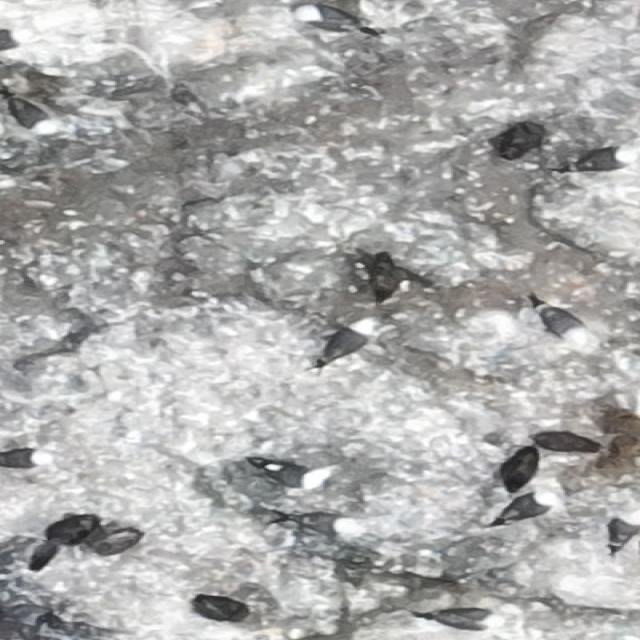umineko: (535, 298, 603, 351), (322, 319, 375, 366), (494, 492, 558, 526), (293, 4, 363, 34), (10, 95, 60, 134), (286, 511, 364, 535), (427, 609, 508, 630), (266, 464, 317, 486), (577, 150, 622, 171), (3, 449, 55, 467)
